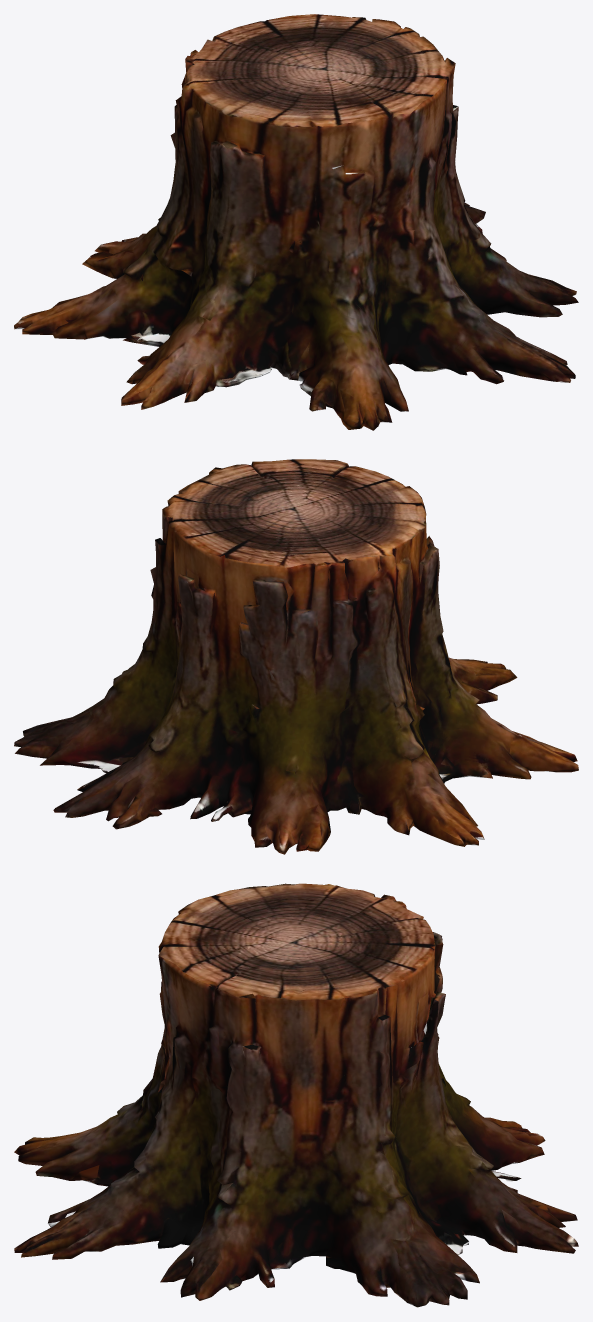
Rendered from stump_textured.glb.
3 views of the same model, one above another, from view 1: azimuth 30°, elevation 25°; view 2: azimuth 150°, elevation 25°; view 3: azimuth 270°, elevation 25° (orthographic). The views are drawn at different scales.
Visible parts, largest first — view 1: temp_mesh.ply; view 2: temp_mesh.ply; view 3: temp_mesh.ply.
Part boxes in pixels (x1,y1,x2,y2): temp_mesh.ply: (14, 14, 578, 430); temp_mesh.ply: (14, 459, 578, 854); temp_mesh.ply: (14, 883, 578, 1307).
Bounding box in the file's own units: 1.99 × 0.9844 × 1.98.
Materials: 1 (1 with a texture image).
